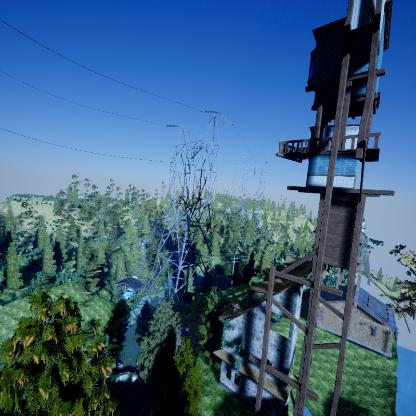tower: (142, 107, 237, 308)
